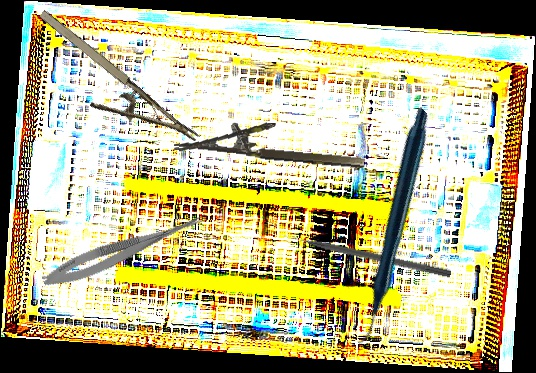Handpiece: (267, 106, 514, 346)
Micro Scissor: (39, 202, 210, 295)
Needle Holder: (16, 4, 201, 174), (173, 113, 368, 170)
Pusher: (282, 229, 452, 279)
